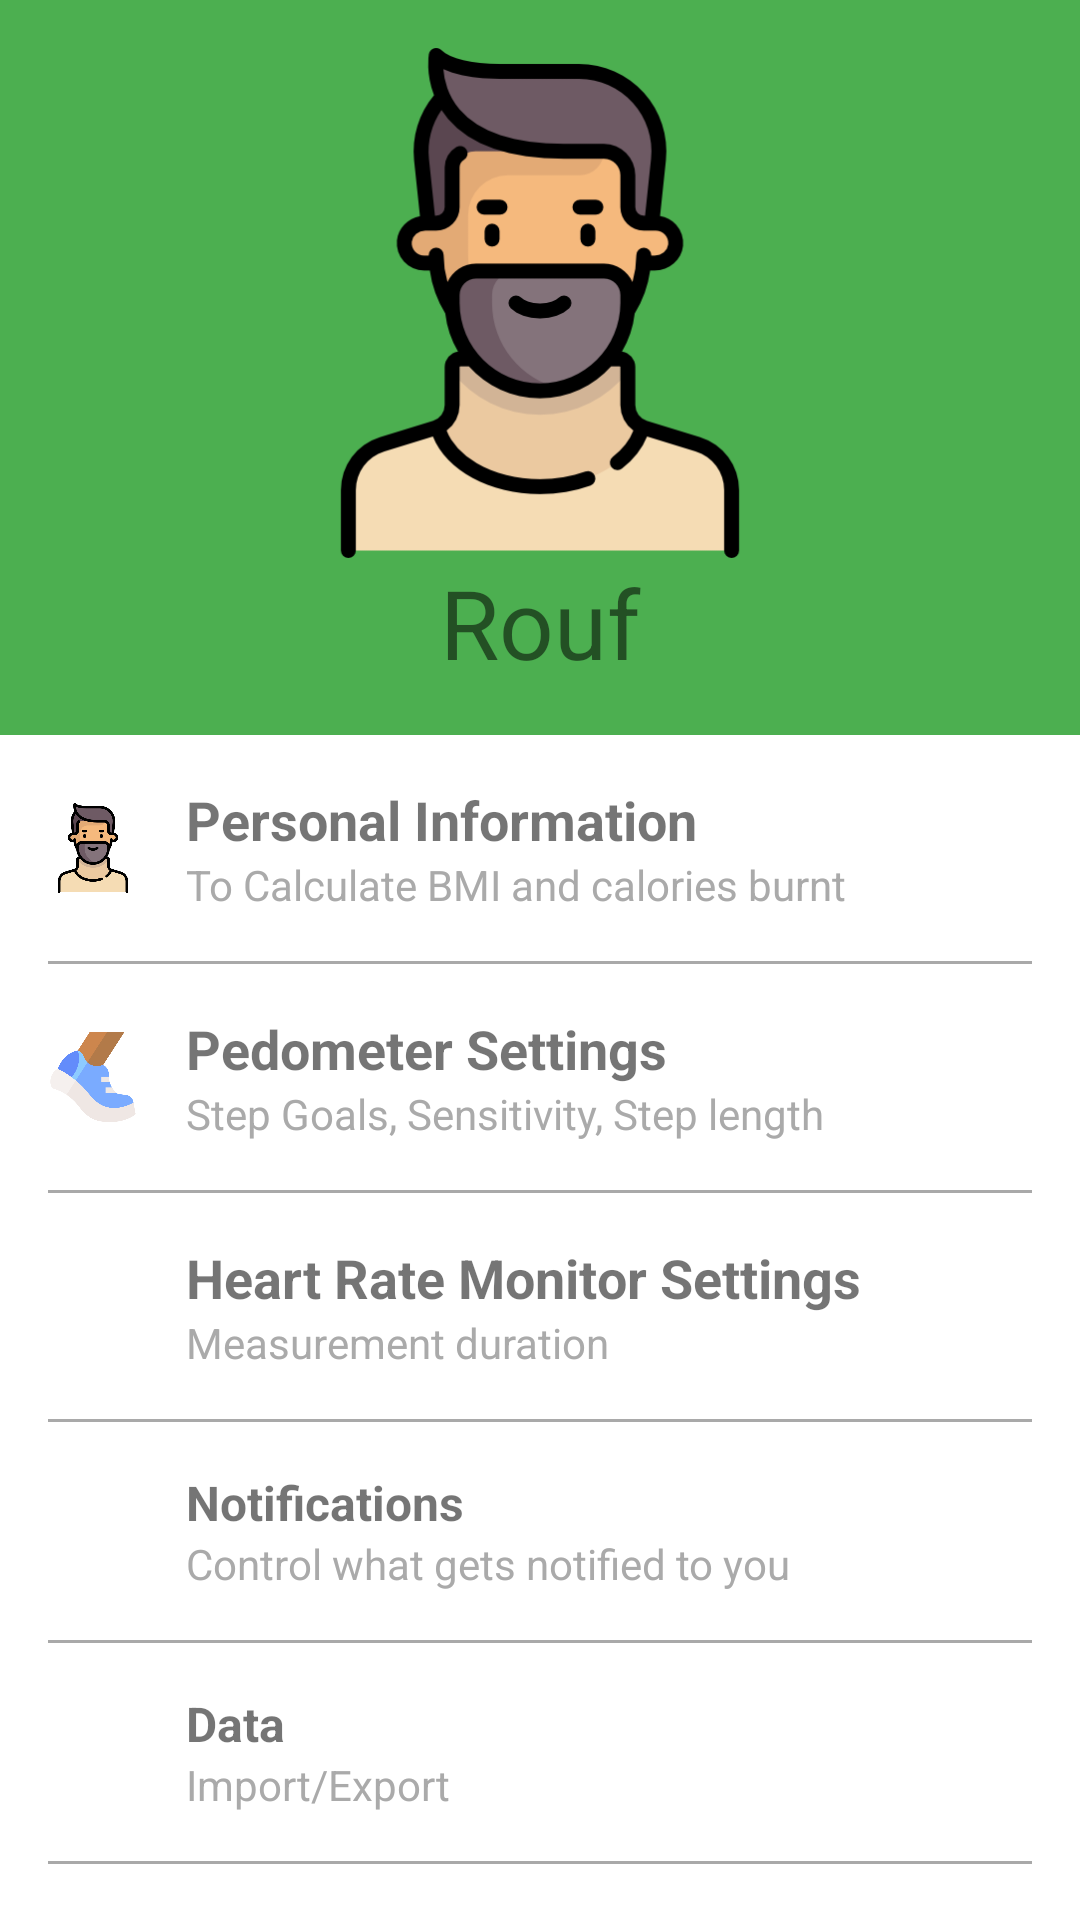

Named icons in this screenshot (1080x1920) and their centers, (x=x, y=y):
walking: (x=96, y=1077)
